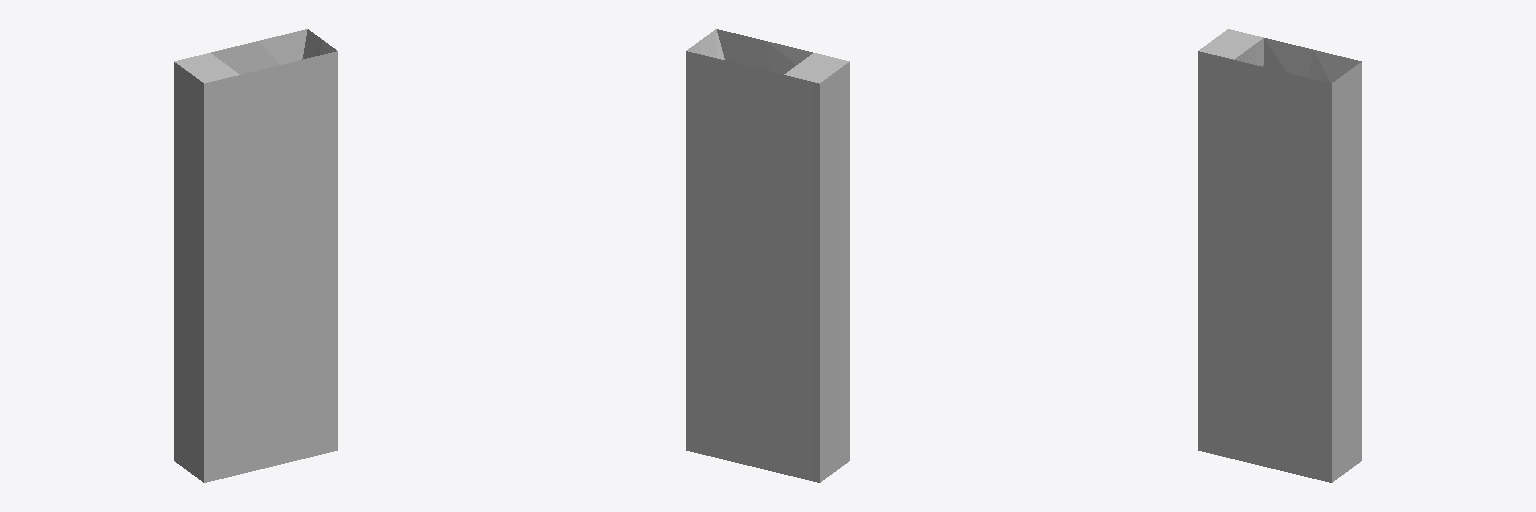
The model's file is Drying Chamber Connection.obj.
3 views of the same model, side by side, from view 1: azimuth 30°, elevation 25°; view 2: azimuth 150°, elevation 25°; view 3: azimuth 330°, elevation 25° (orthographic).
Parts seen in each view (by area): view 1: mesh8, mesh9, mesh3, mesh7; view 2: mesh5, mesh9, mesh10, mesh2, mesh7, mesh1; view 3: mesh8, mesh0, mesh3, mesh7.
Boxes of the visible parts, x1=… form: mesh8: x1=204, y1=51, x2=337, y2=482; mesh9: x1=174, y1=62, x2=203, y2=482; mesh3: x1=211, y1=29, x2=307, y2=74; mesh7: x1=174, y1=53, x2=239, y2=83; mesh5: x1=686, y1=51, x2=813, y2=481; mesh9: x1=820, y1=62, x2=849, y2=482; mesh10: x1=814, y1=82, x2=819, y2=482; mesh2: x1=717, y1=29, x2=812, y2=74; mesh7: x1=784, y1=53, x2=849, y2=83; mesh1: x1=687, y1=29, x2=724, y2=59; mesh8: x1=1198, y1=51, x2=1331, y2=482; mesh0: x1=1332, y1=62, x2=1361, y2=482; mesh3: x1=1263, y1=38, x2=1361, y2=83; mesh7: x1=1199, y1=29, x2=1263, y2=59.
Bounding box in the file's own units: 0.0005 × 0.0015 × 0.0002.